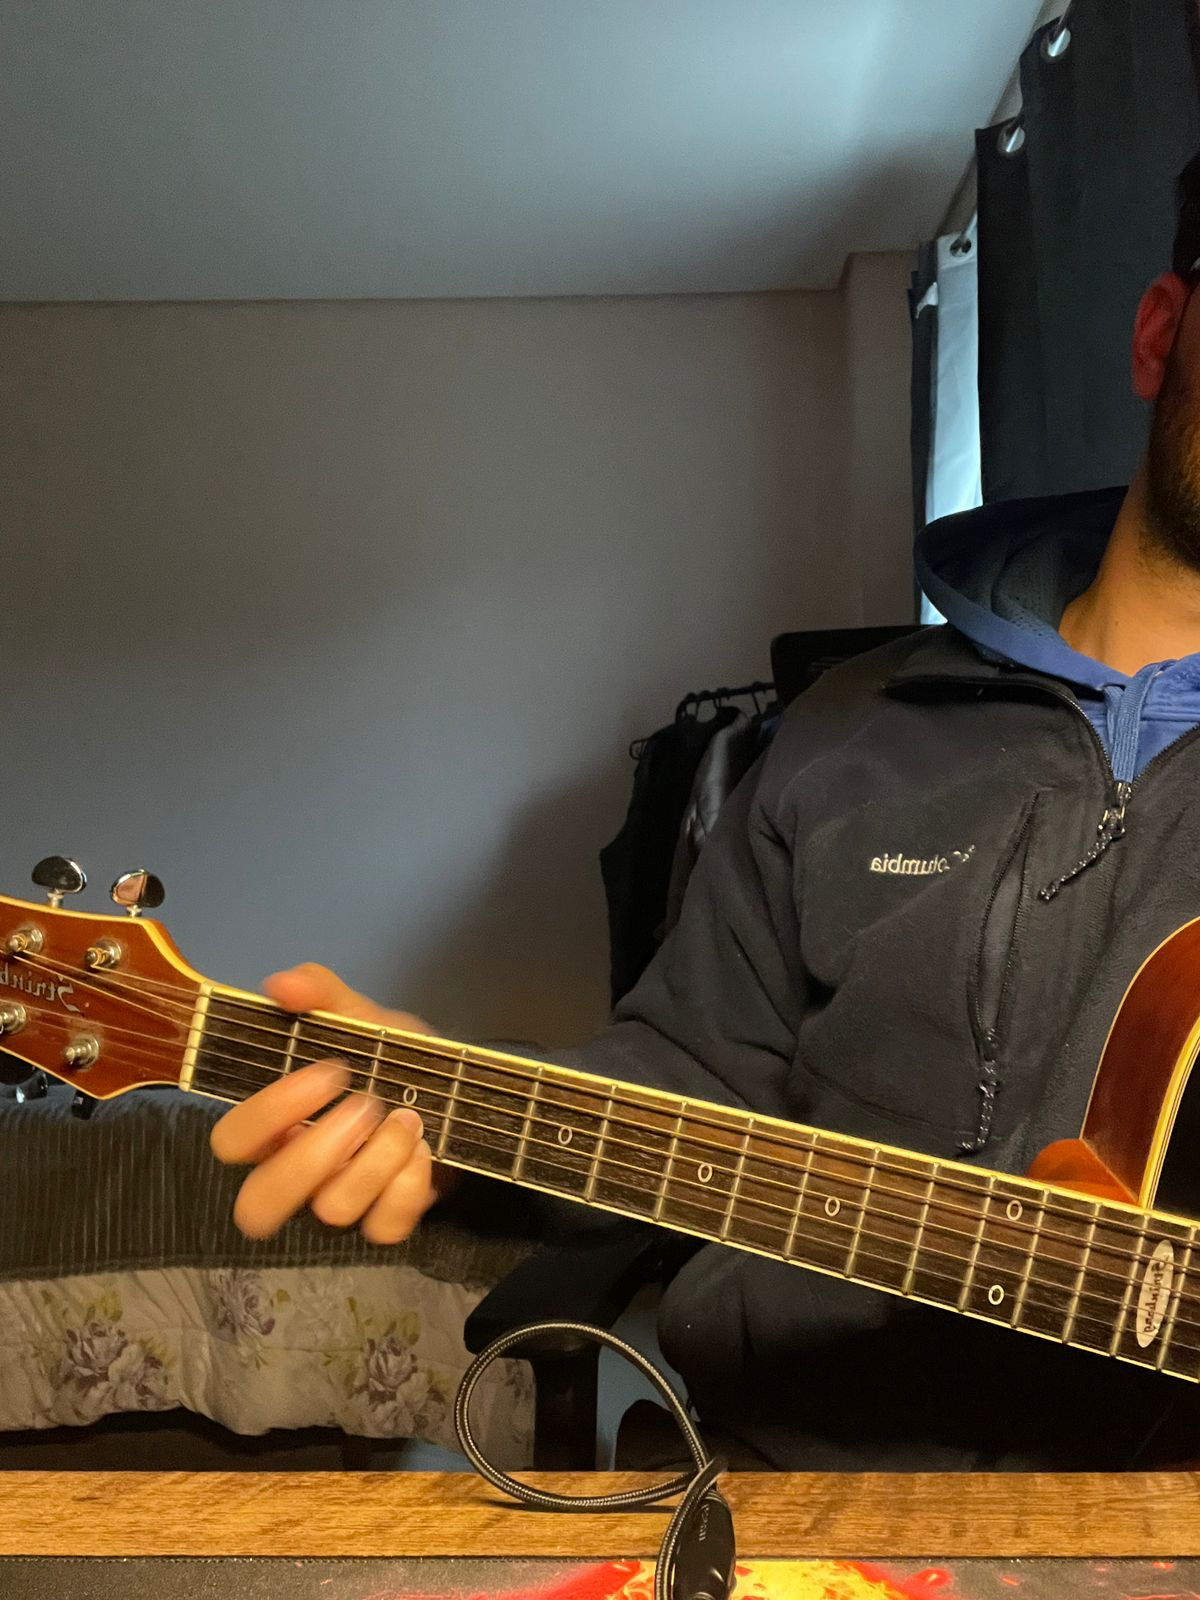re: (287, 1043, 454, 1186)
violao: (1, 834, 1199, 1391)
